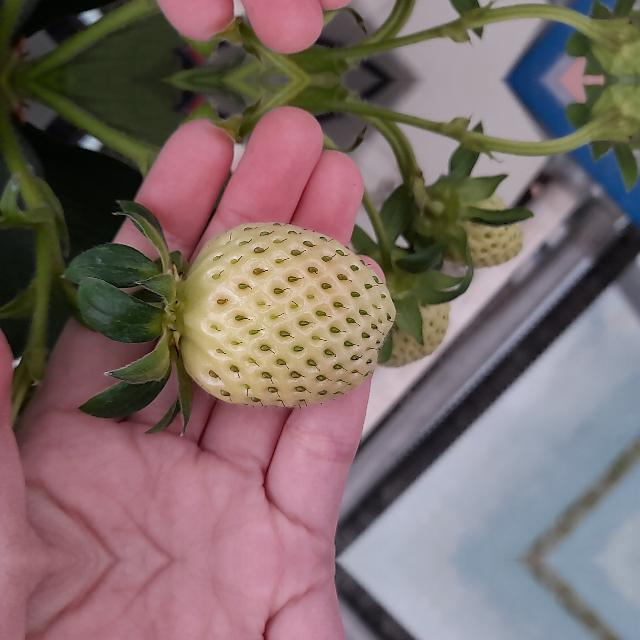Health_25: (173, 223, 395, 407)
